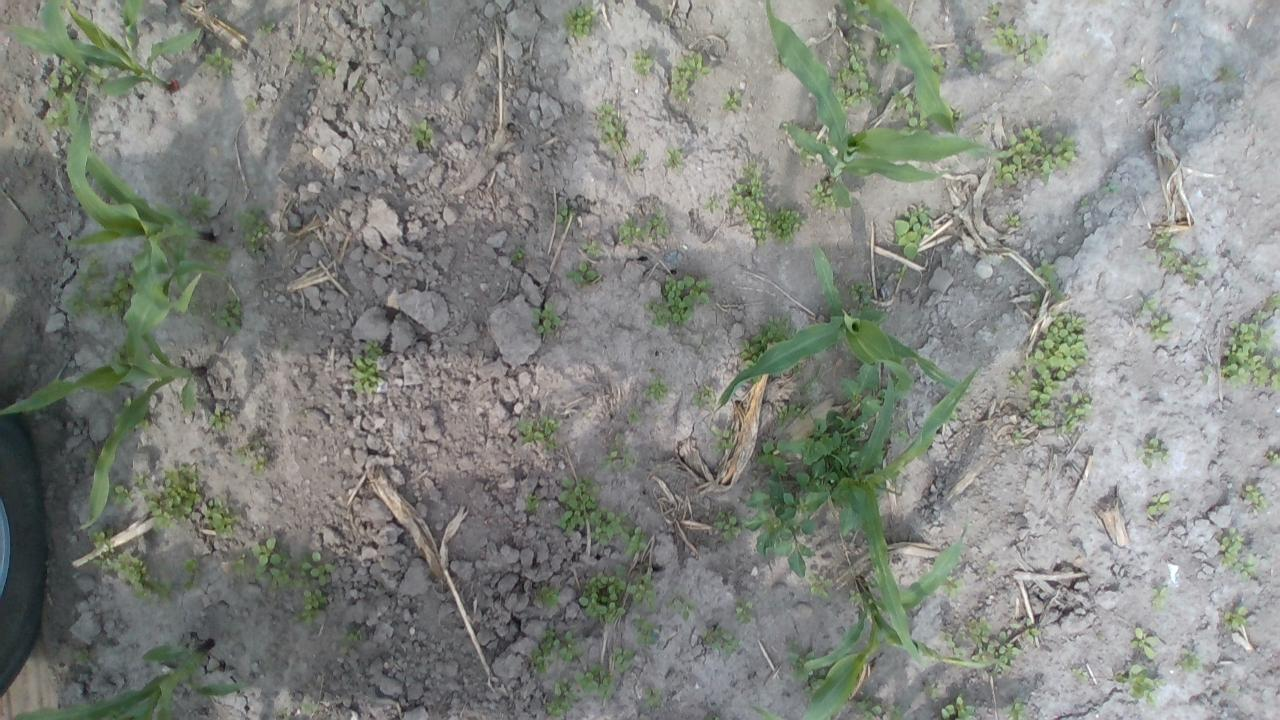Maize: (0, 258, 236, 528), (766, 0, 1014, 210), (728, 516, 971, 720), (832, 364, 982, 674), (57, 91, 217, 377), (718, 239, 974, 395), (8, 632, 246, 720), (0, 0, 202, 100)
Weeds: (811, 362, 885, 540), (741, 437, 820, 580), (991, 126, 1077, 188), (1220, 310, 1280, 391), (1022, 310, 1088, 382), (91, 551, 172, 604), (643, 272, 714, 328), (726, 158, 768, 246), (46, 58, 90, 135), (590, 504, 648, 562), (739, 314, 799, 369), (292, 552, 336, 624), (61, 254, 108, 320), (782, 638, 832, 698), (578, 564, 626, 624), (556, 477, 600, 538), (158, 463, 202, 522), (527, 628, 583, 672), (892, 204, 934, 259), (1114, 664, 1166, 707), (94, 270, 136, 322), (253, 534, 292, 590), (670, 51, 711, 103), (231, 206, 271, 258), (1025, 371, 1059, 427), (348, 340, 383, 392), (592, 103, 626, 153), (831, 40, 870, 83), (1028, 258, 1064, 304), (515, 416, 561, 452), (1056, 391, 1092, 435), (142, 488, 176, 534), (204, 496, 242, 537), (831, 80, 882, 110), (987, 630, 1020, 676), (208, 296, 244, 338), (768, 207, 806, 246), (575, 663, 616, 699), (234, 432, 268, 475), (846, 695, 904, 720), (561, 4, 600, 40), (544, 678, 577, 720), (626, 570, 658, 609), (990, 24, 1026, 56), (809, 176, 840, 213), (967, 617, 992, 662), (1129, 626, 1162, 660), (170, 192, 210, 220), (701, 625, 738, 655), (710, 509, 741, 544), (1218, 527, 1244, 568), (531, 301, 560, 337), (1017, 34, 1048, 65), (773, 401, 808, 428), (642, 210, 672, 241), (836, 0, 868, 29), (939, 695, 976, 720), (845, 279, 872, 313), (566, 263, 602, 288), (1137, 437, 1168, 466), (870, 32, 896, 66), (602, 444, 634, 471), (1144, 312, 1174, 340), (205, 47, 232, 78), (632, 614, 658, 646), (956, 43, 984, 72), (709, 426, 736, 455), (892, 84, 918, 114), (106, 480, 134, 506), (806, 574, 834, 600), (618, 218, 642, 248), (1010, 617, 1040, 641), (889, 409, 910, 443), (181, 558, 202, 592), (1221, 605, 1248, 631), (309, 52, 336, 78), (941, 632, 966, 660), (1244, 483, 1268, 512), (668, 596, 697, 620), (899, 115, 932, 136), (1156, 248, 1182, 274), (642, 376, 668, 402), (1232, 557, 1259, 582), (629, 49, 654, 76), (610, 646, 635, 672), (206, 407, 233, 431), (1124, 63, 1147, 90), (411, 118, 434, 145), (1181, 258, 1206, 282), (927, 51, 946, 82), (734, 596, 754, 625), (1158, 85, 1182, 109), (205, 244, 231, 266), (88, 528, 114, 550), (1002, 698, 1028, 720), (537, 585, 560, 609), (1179, 646, 1200, 672), (408, 58, 431, 81), (187, 284, 203, 317), (691, 385, 715, 407), (942, 575, 964, 599), (922, 679, 944, 702), (1147, 492, 1171, 513), (1136, 296, 1159, 316), (720, 90, 740, 113), (553, 202, 572, 226), (664, 148, 684, 170), (88, 63, 107, 86), (342, 625, 366, 643), (65, 648, 90, 664), (641, 687, 663, 705), (796, 146, 816, 165), (231, 558, 252, 576), (946, 104, 964, 124), (1007, 367, 1025, 387), (626, 151, 646, 169), (580, 239, 600, 257), (799, 376, 817, 396), (1154, 231, 1175, 248), (1216, 66, 1238, 82), (988, 0, 1002, 25), (80, 447, 98, 466), (1150, 587, 1166, 608), (288, 47, 306, 64), (509, 246, 526, 262), (134, 418, 152, 433), (132, 472, 148, 488), (527, 496, 544, 511), (626, 408, 640, 426), (848, 590, 864, 605), (1071, 668, 1089, 681), (1265, 450, 1280, 465), (256, 22, 272, 34), (302, 702, 318, 714), (1203, 364, 1213, 383), (1006, 214, 1020, 227), (1104, 184, 1122, 194), (244, 97, 256, 112), (772, 47, 782, 64), (894, 266, 906, 280), (1268, 293, 1280, 306), (1011, 430, 1022, 444), (824, 135, 832, 154), (352, 78, 366, 88), (704, 200, 718, 209), (782, 121, 792, 131), (792, 367, 802, 376), (1081, 200, 1089, 208), (282, 342, 288, 352)
